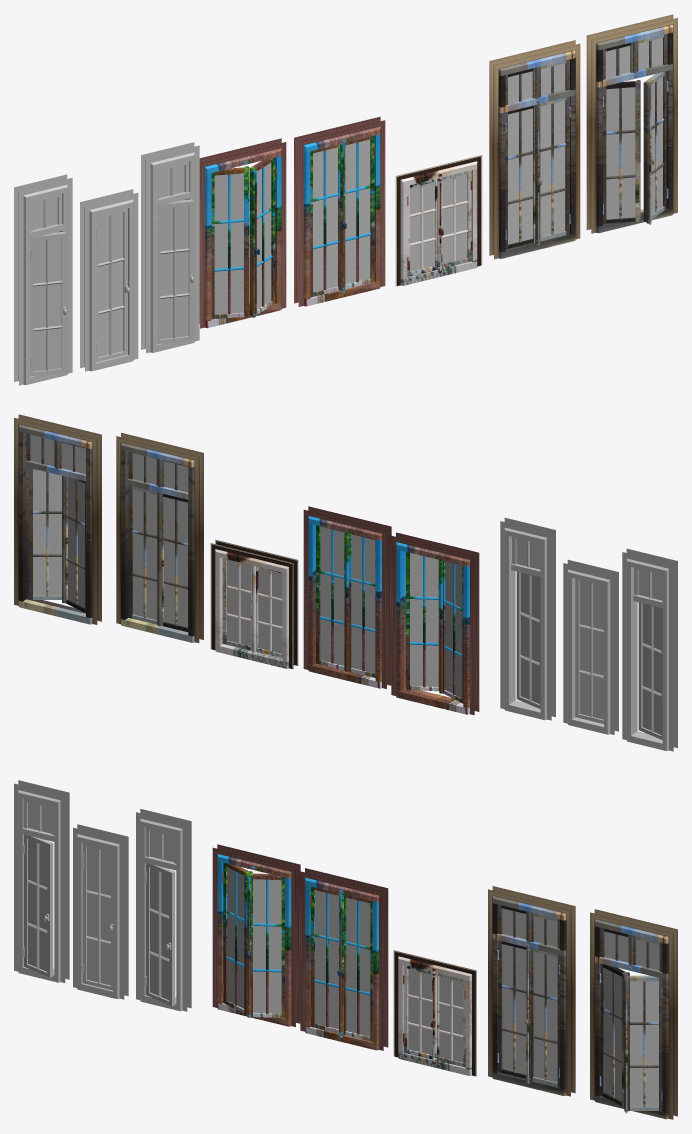
File: MASK_02.fbx
3 views of the same model, one above another, from view 1: azimuth 30°, elevation 25°; view 2: azimuth 150°, elevation 25°; view 3: azimuth 330°, elevation 25° (orthographic). The views are drawn at different scales.
Visible parts, largest first — view 1: window.002, window.003, window.004, window, window.010, window.008, window.001, window.009; view 2: window.002, window.003, window.004, window, window.008, window.010, window.009, window.001; view 3: window.002, window.003, window.004, window, window.008, window.010, window.001, window.009.
Part boxes in pixels (x1,y1,x2,y2): window.002: (489, 40, 580, 259); window.003: (586, 14, 677, 233); window.004: (294, 116, 385, 306); window: (199, 138, 286, 328); window.010: (141, 142, 199, 353); window.008: (14, 174, 72, 385); window.001: (80, 189, 138, 371); window.009: (395, 155, 482, 286); window.002: (116, 432, 203, 643); window.003: (14, 414, 101, 624); window.004: (303, 506, 391, 688); window: (391, 532, 479, 715); window.008: (622, 548, 677, 751); window.010: (500, 517, 555, 720); window.009: (210, 539, 298, 669); window.001: (563, 559, 618, 734); window.002: (488, 886, 575, 1096); window.003: (590, 909, 677, 1119); window.004: (300, 868, 388, 1050); window: (212, 844, 300, 1026); window.008: (14, 780, 69, 982); window.010: (136, 808, 191, 1011); window.001: (73, 824, 128, 999); window.009: (393, 950, 476, 1076).
Size of the model in its own units: 1279 by 360 by 88.17.
